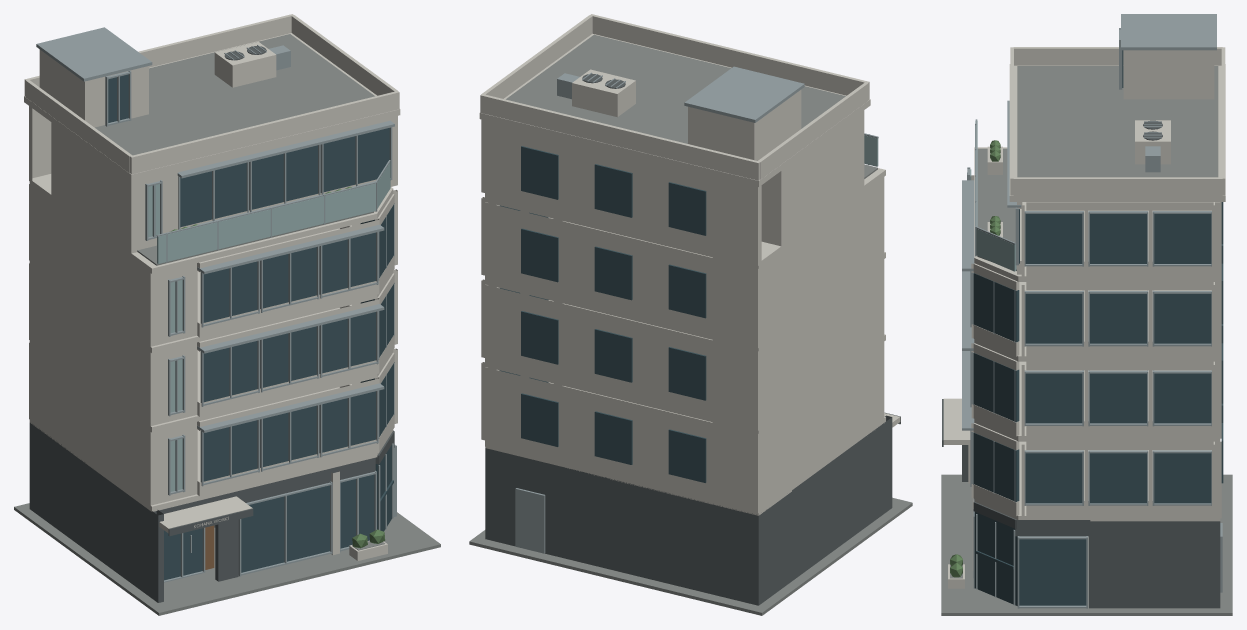
The model's file is sakura-office.glb.
The picture shows the model from 3 angles, left to right: view 1: azimuth 30°, elevation 25°; view 2: azimuth 150°, elevation 25°; view 3: azimuth 270°, elevation 25°; orthographic projection. The views are drawn at different scales.
Parts seen in each view (by area): view 1: sakura-office_mineral_plaster, sakura-office_deep_glazing, sakura-office_silver_metal, sakura-office_roof_membrane, sakura-office_charcoal_tile, sakura-office_frosted_glazing; view 2: sakura-office_mineral_plaster, sakura-office_charcoal_tile, sakura-office_deep_glazing, sakura-office_roof_membrane, sakura-office_silver_metal; view 3: sakura-office_deep_glazing, sakura-office_mineral_plaster, sakura-office_roof_membrane, sakura-office_silver_metal, sakura-office_charcoal_tile, sakura-office_frosted_glazing, sakura-office_planted_green.
Part boxes in pixels (bbox=[...]): sakura-office_mineral_plaster: bbox=[24, 14, 400, 560]; sakura-office_deep_glazing: bbox=[108, 74, 394, 580]; sakura-office_silver_metal: bbox=[36, 27, 396, 582]; sakura-office_roof_membrane: bbox=[14, 34, 440, 615]; sakura-office_charcoal_tile: bbox=[29, 46, 394, 602]; sakura-office_frosted_glazing: bbox=[148, 162, 390, 491]; sakura-office_mineral_plaster: bbox=[479, 14, 900, 515]; sakura-office_charcoal_tile: bbox=[485, 73, 900, 605]; sakura-office_deep_glazing: bbox=[499, 146, 706, 482]; sakura-office_roof_membrane: bbox=[469, 34, 912, 615]; sakura-office_silver_metal: bbox=[515, 66, 878, 553]; sakura-office_deep_glazing: bbox=[973, 50, 1223, 605]; sakura-office_mineral_plaster: bbox=[943, 47, 1225, 588]; sakura-office_roof_membrane: bbox=[941, 66, 1232, 615]; sakura-office_silver_metal: bbox=[962, 14, 1222, 608]; sakura-office_charcoal_tile: bbox=[942, 120, 1220, 608]; sakura-office_frosted_glazing: bbox=[970, 121, 1016, 271]; sakura-office_planted_green: bbox=[950, 140, 1000, 577].
Bounding box in the file's own units: 11.9 × 18.88 × 10.6.
